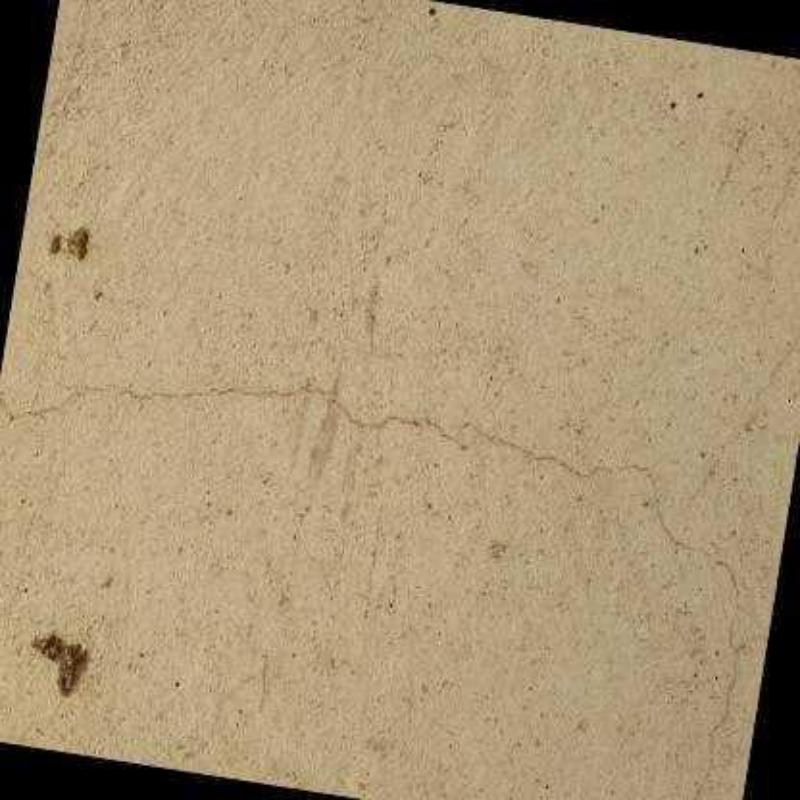pothole: (0, 376, 768, 800)
